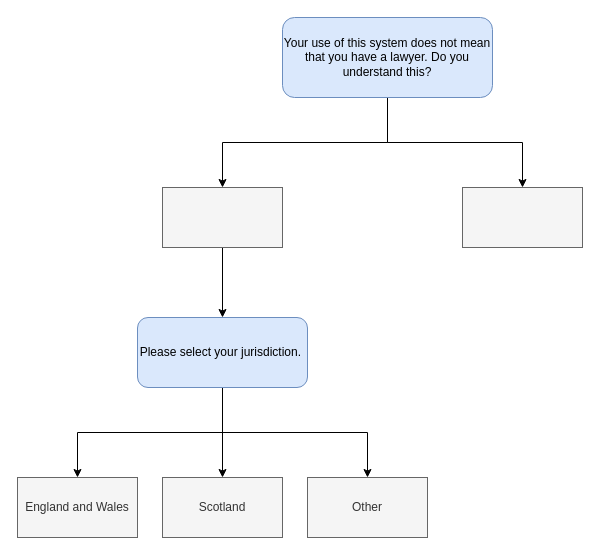
Image size: 600x555. Some labels were removed from this diagram. The shapes that lost their labels are listed below. From the top down, each one's box as (x1, y1, x2, y2) in pixels, then its label:
(162, 186, 282, 248): Yes
(462, 186, 582, 248): No
